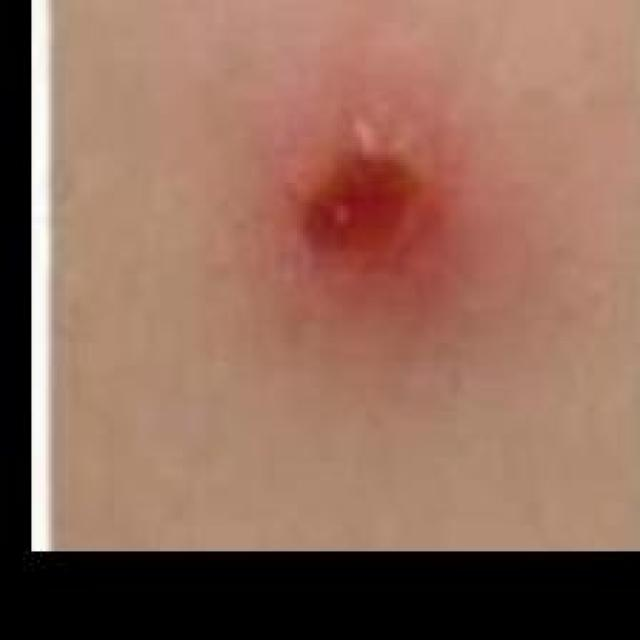others: (96, 9, 639, 510)
